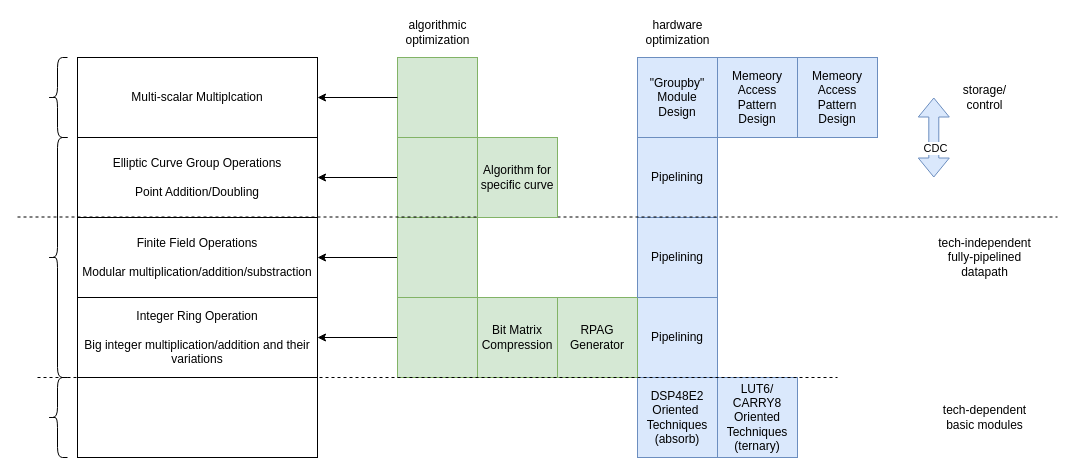
Image size: 1076x475. Some labels were removed from this diagram. Each missing label, with the box of its shape:
Basic operations Adders/Multipliers/Logical Operators on FPGA: (76, 376, 318, 458)
Error-tolerant Modular reduction: (396, 216, 478, 298)
Karatsuba Algorithm and its variation: (396, 296, 478, 378)
Pippenger Algorithm: (396, 56, 478, 138)
Projective Coordinates: (396, 136, 478, 218)
